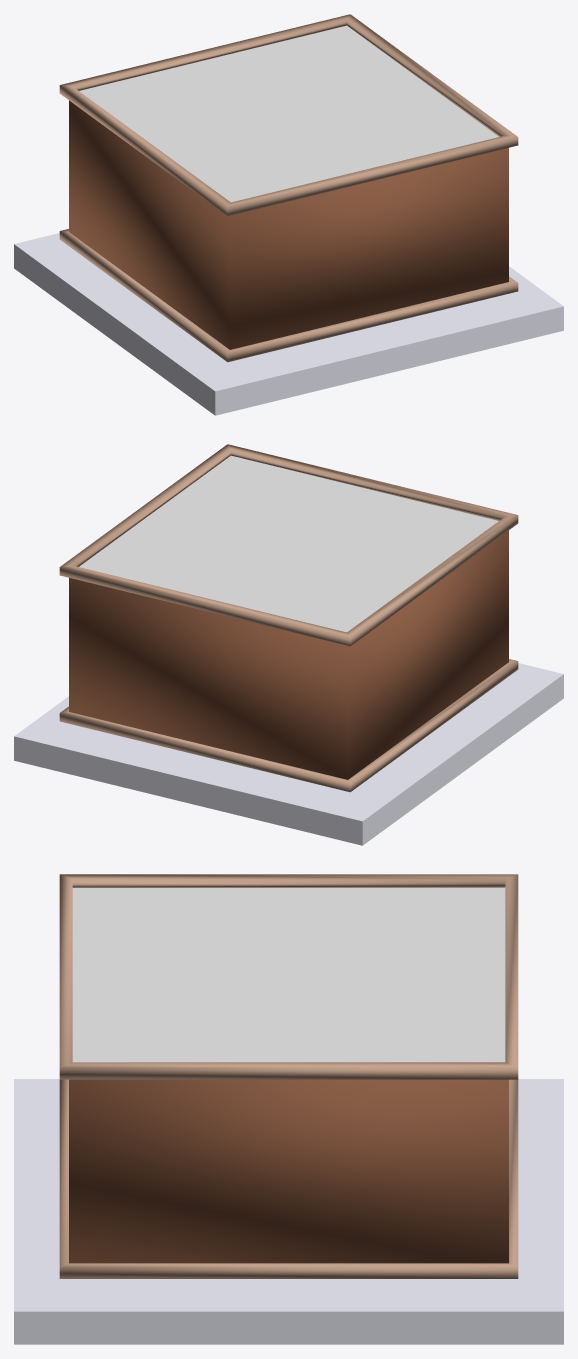
The model's file is square_chocolate_image.glb.
3 views of the same model, one above another, from view 1: azimuth 30°, elevation 25°; view 2: azimuth 150°, elevation 25°; view 3: azimuth 270°, elevation 25° (orthographic). The views are drawn at different scales.
Visible parts, largest first — view 1: CakeBase, CakeTopImage, IcingStand, IcingRing, IcingRing.001; view 2: CakeBase, CakeTopImage, IcingStand, IcingRing, IcingRing.001; view 3: CakeBase, CakeTopImage, IcingStand, IcingRing, IcingRing.001.
Boxes of the visible parts, left/top/right/bottom form: CakeBase: left=69, top=100, right=508, bottom=349; CakeTopImage: left=79, top=25, right=498, bottom=202; IcingStand: left=14, top=233, right=563, bottom=415; IcingRing: left=59, top=14, right=518, bottom=216; IcingRing.001: left=59, top=229, right=518, bottom=362; CakeBase: left=69, top=530, right=508, bottom=779; CakeTopImage: left=79, top=455, right=498, bottom=632; IcingStand: left=14, top=663, right=563, bottom=845; IcingRing: left=59, top=444, right=518, bottom=646; IcingRing.001: left=59, top=659, right=518, bottom=792; CakeBase: left=69, top=1079, right=508, bottom=1263; CakeTopImage: left=72, top=887, right=505, bottom=1062; IcingStand: left=14, top=1079, right=563, bottom=1344; IcingRing: left=59, top=874, right=518, bottom=1079; IcingRing.001: left=59, top=1079, right=518, bottom=1278.
Size of the model in its own units: 3 by 1.55 by 3.
